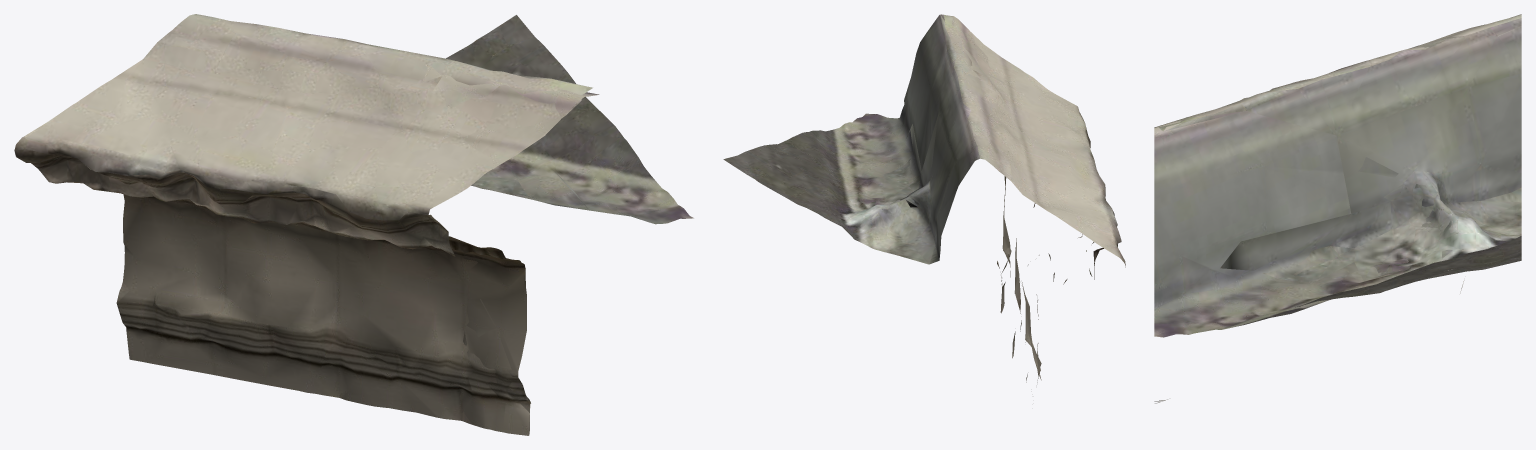
3 views of the same model, side by side, from view 1: azimuth 30°, elevation 25°; view 2: azimuth 150°, elevation 25°; view 3: azimuth 270°, elevation 25° (orthographic). The views are drawn at different scales.
Bounding box in the file's own units: 4.72 × 2.98 × 2.9.
1 material, 1 textured.
